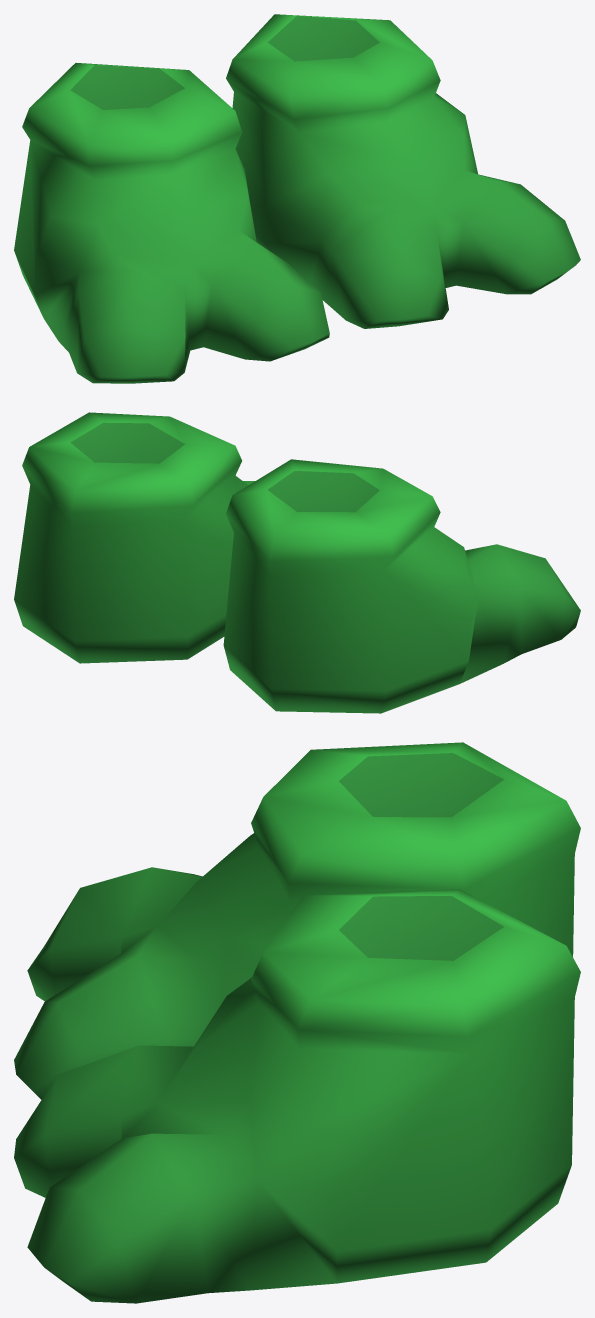
Rendered from Shoes_29.fbx.
3 views of the same model, one above another, from view 1: azimuth 30°, elevation 25°; view 2: azimuth 150°, elevation 25°; view 3: azimuth 270°, elevation 25° (orthographic). The views are drawn at different scales.
Parts seen in each view (by area): view 1: Shoes_29; view 2: Shoes_29; view 3: Shoes_29.
Boxes of the visible parts, x1,y1,x2,y2 form: Shoes_29: (14,14,580,383); Shoes_29: (14,412,580,713); Shoes_29: (14,742,580,1303).
Bounding box in the file's own units: 52.73 × 19.45 × 35.84.
